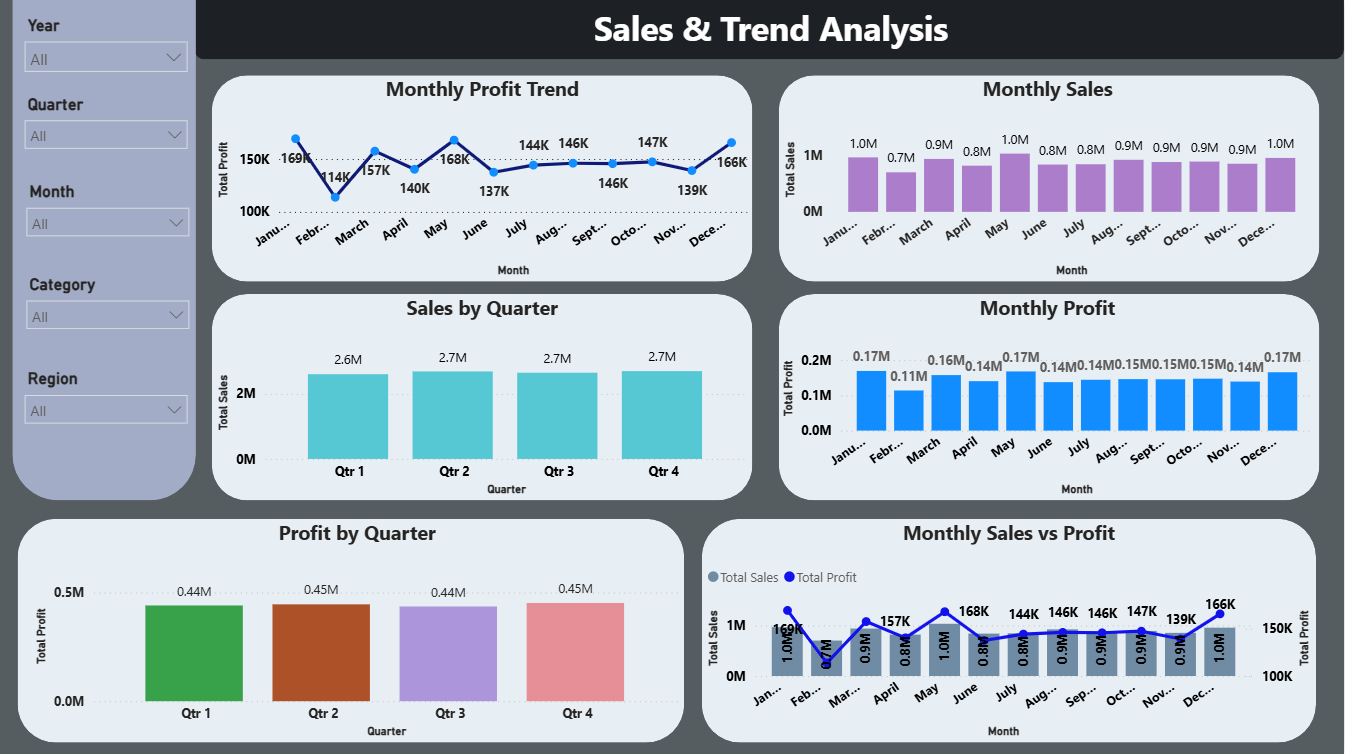

The page's visual inventory and layout, read from the dashboard file:
{"tool":"powerbi","page":{"name":"Sales & Trend Analysis","canvas":[1280,720],"ordinal":1},"visuals":[{"type":"shape","box":[185,0,1095,56.7],"z":0},{"type":"shape","box":[668.3,495,585,213.3],"z":1000},{"type":"shape","box":[16.7,495,635,213.3],"z":2000},{"type":"shape","box":[201.7,280,515,196.7],"z":3000},{"type":"shape","box":[741.7,280,515,196.7],"z":4000},{"type":"shape","box":[741.7,71.7,515,196.7],"z":5000},{"type":"shape","box":[201.7,71.7,515,196.7],"z":6000},{"type":"shape","box":[11.7,0,175,476.7],"z":7000},{"type":"lineChart","title":"Monthly Profit Trend","fields":{"Category":["data_clean.Order_date.Variation.Date Hierarchy.Month"],"Y":["data_clean.Total Profit"]},"box":[201.7,71.7,515,196.7],"z":8000},{"type":"clusteredColumnChart","title":"Monthly Sales","fields":{"Category":["data_clean.Order_date.Variation.Date Hierarchy.Month"],"Y":["data_clean.Total Sales"]},"box":[741.7,71.7,511.7,196.7],"z":9000},{"type":"clusteredColumnChart","title":"Sales by Quarter","fields":{"Category":["data_clean.Order_date.Variation.Date Hierarchy.Quarter"],"Y":["data_clean.Total Sales"]},"box":[201.7,280,515,196.7],"z":10000},{"type":"clusteredColumnChart","title":"Monthly Profit","fields":{"Category":["data_clean.Order_date.Variation.Date Hierarchy.Month"],"Y":["data_clean.Total Profit"]},"box":[740,280,515,196.7],"z":11000},{"type":"clusteredColumnChart","title":"Profit by Quarter","fields":{"Category":["data_clean.Order_date.Variation.Date Hierarchy.Quarter"],"Y":["data_clean.Total Profit"]},"box":[28.3,495,623.3,213.3],"z":12000},{"type":"lineClusteredColumnComboChart","title":"Monthly Sales vs Profit","fields":{"Category":["data_clean.Order_date.Variation.Date Hierarchy.Month"],"Y":["data_clean.Total Sales"],"Y2":["data_clean.Total Profit"]},"box":[668.3,495,585,213.3],"z":13000},{"type":"slicer","fields":{"Values":["data_clean.Order_date.Variation.Date Hierarchy.Year"]},"box":[13.2,10.5,175.2,61.9],"z":14000},{"type":"slicer","fields":{"Values":["data_clean.Order_date.Variation.Date Hierarchy.Quarter"]},"box":[13.3,85,175.2,61.9],"z":15000},{"type":"slicer","fields":{"Values":["data_clean.Order_date.Variation.Date Hierarchy.Month"]},"box":[15,168.3,175,70],"z":16000},{"type":"slicer","fields":{"Values":["data_clean.Category"]},"box":[15,256.7,175,78.3],"z":17000},{"type":"slicer","fields":{"Values":["data_clean.Region"]},"box":[13.3,346.7,175,86.7],"z":18000},{"type":"textbox","box":[188.3,0,1091.7,56.7],"z":19000}]}

Visuals, with their boxes in screenshot pixels (x1, y1, x2, y2), scaled from the page's 1280x720 canvas onto the 1345x754 screenshot:
shape: crop(194, 0, 1344, 59)
shape: crop(702, 518, 1317, 742)
shape: crop(18, 518, 685, 742)
shape: crop(212, 293, 753, 499)
shape: crop(779, 293, 1321, 499)
shape: crop(779, 75, 1321, 281)
shape: crop(212, 75, 753, 281)
shape: crop(12, 0, 196, 499)
"Monthly Profit Trend" lineChart: crop(212, 75, 753, 281)
"Monthly Sales" clusteredColumnChart: crop(779, 75, 1317, 281)
"Sales by Quarter" clusteredColumnChart: crop(212, 293, 753, 499)
"Monthly Profit" clusteredColumnChart: crop(778, 293, 1319, 499)
"Profit by Quarter" clusteredColumnChart: crop(30, 518, 685, 742)
"Monthly Sales vs Profit" lineClusteredColumnComboChart: crop(702, 518, 1317, 742)
slicer - data_clean.Order_date.Variation.Date Hierarchy.Year: crop(14, 11, 198, 76)
slicer - data_clean.Order_date.Variation.Date Hierarchy.Quarter: crop(14, 89, 198, 154)
slicer - data_clean.Order_date.Variation.Date Hierarchy.Month: crop(16, 176, 200, 250)
slicer - data_clean.Category: crop(16, 269, 200, 351)
slicer - data_clean.Region: crop(14, 363, 198, 454)
textbox: crop(198, 0, 1344, 59)
